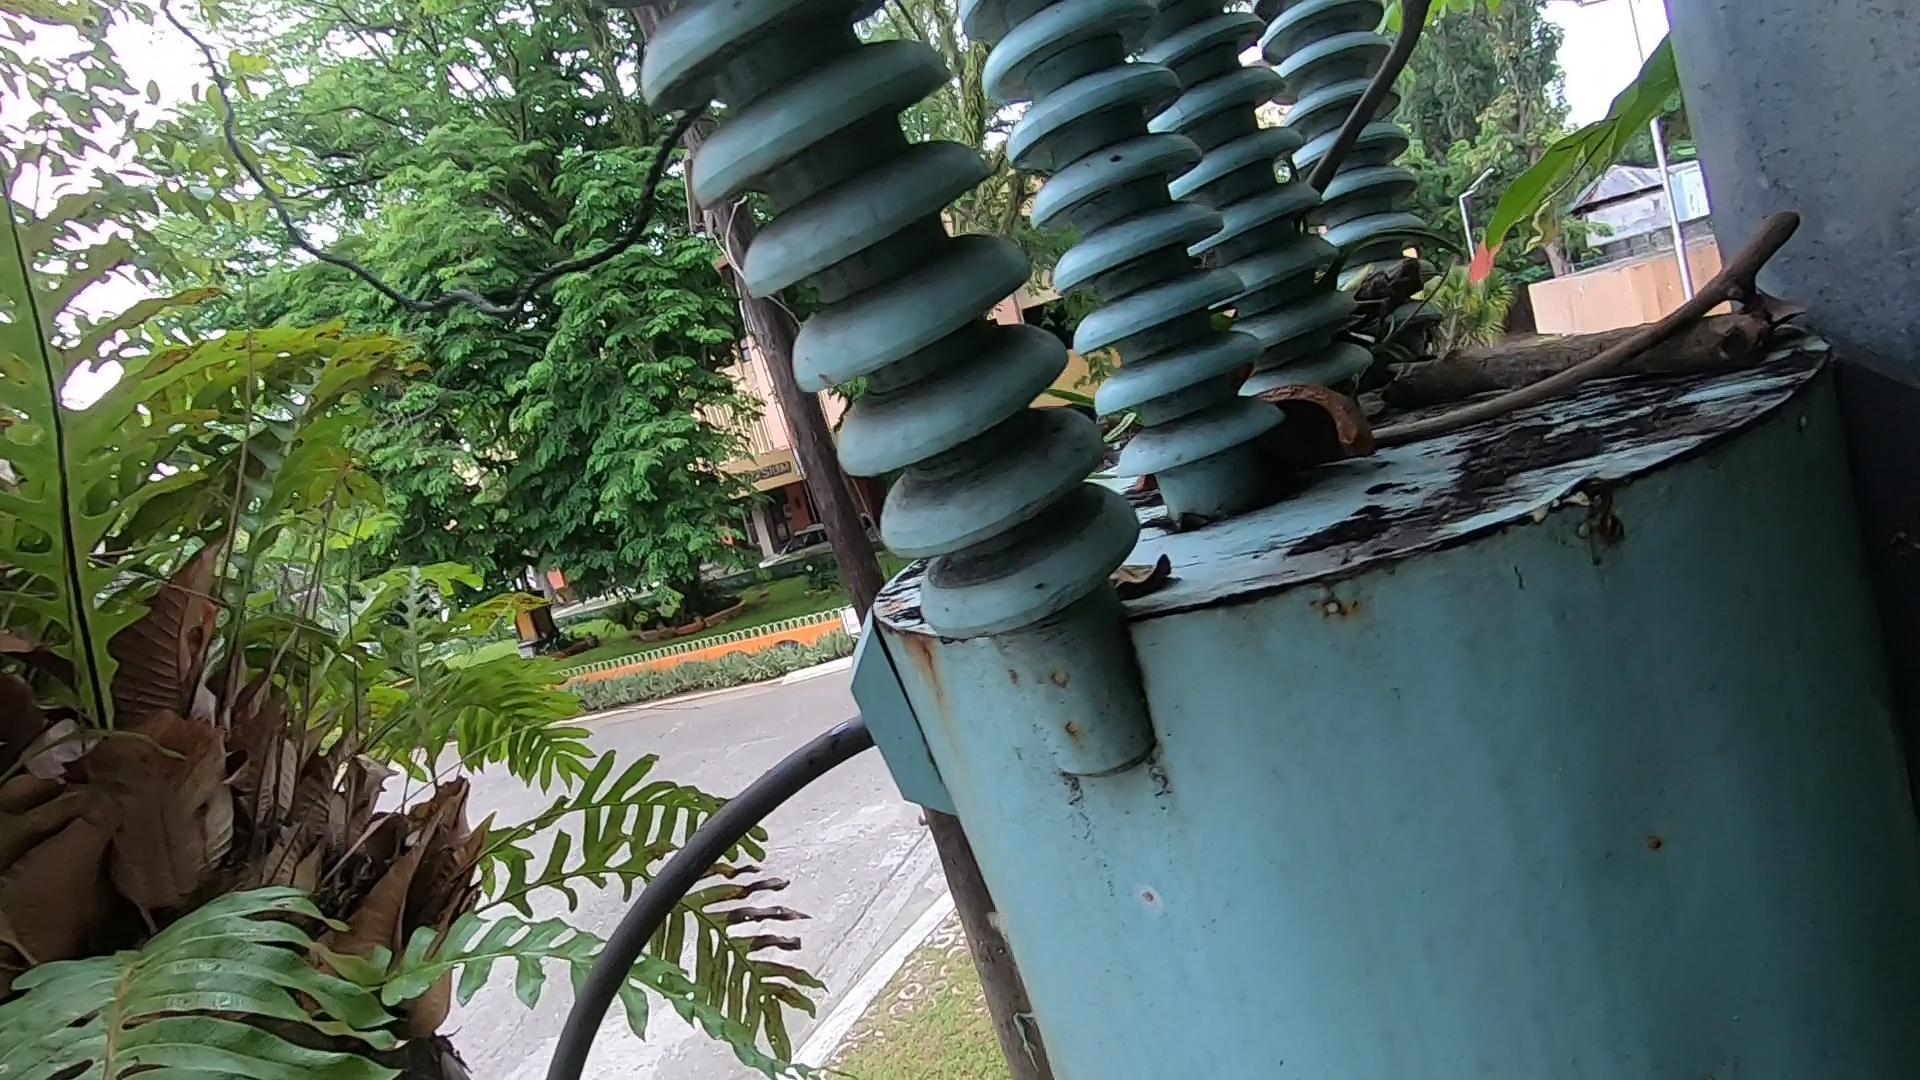branch with leaves: (1331, 240, 1847, 396)
leaf: (1120, 527, 1224, 624)
mahogany fruit: (1253, 375, 1476, 516)
tree branch: (1360, 179, 1855, 442), (1335, 1, 1443, 224)
